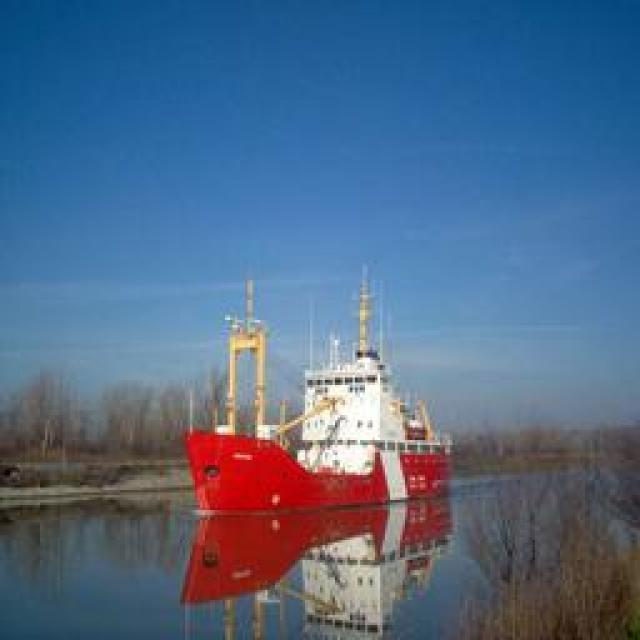ship2: (186, 267, 454, 518)
